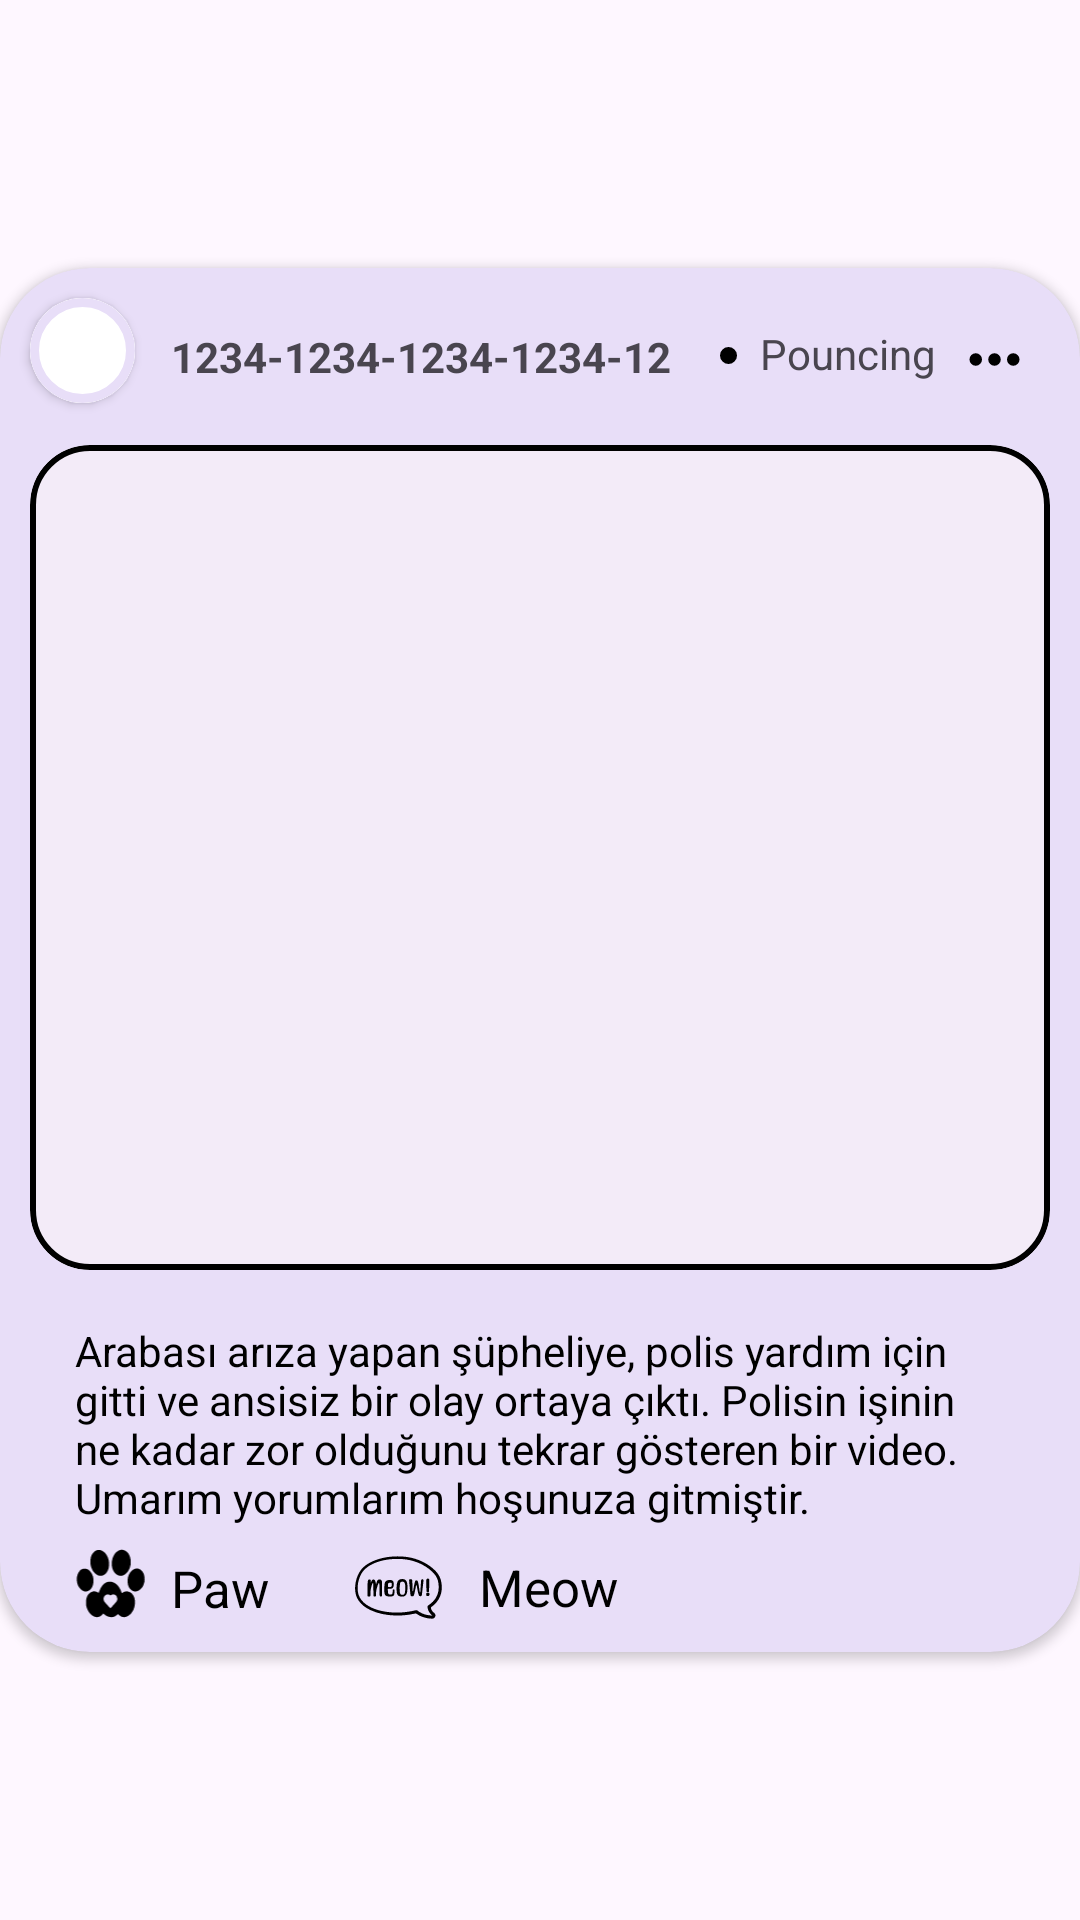

Point at icon controls on the screen. Image size 1080px x 1920px, points as point (x, y).
cat paw like: point (110, 1583)
triple punto: point (994, 359)
